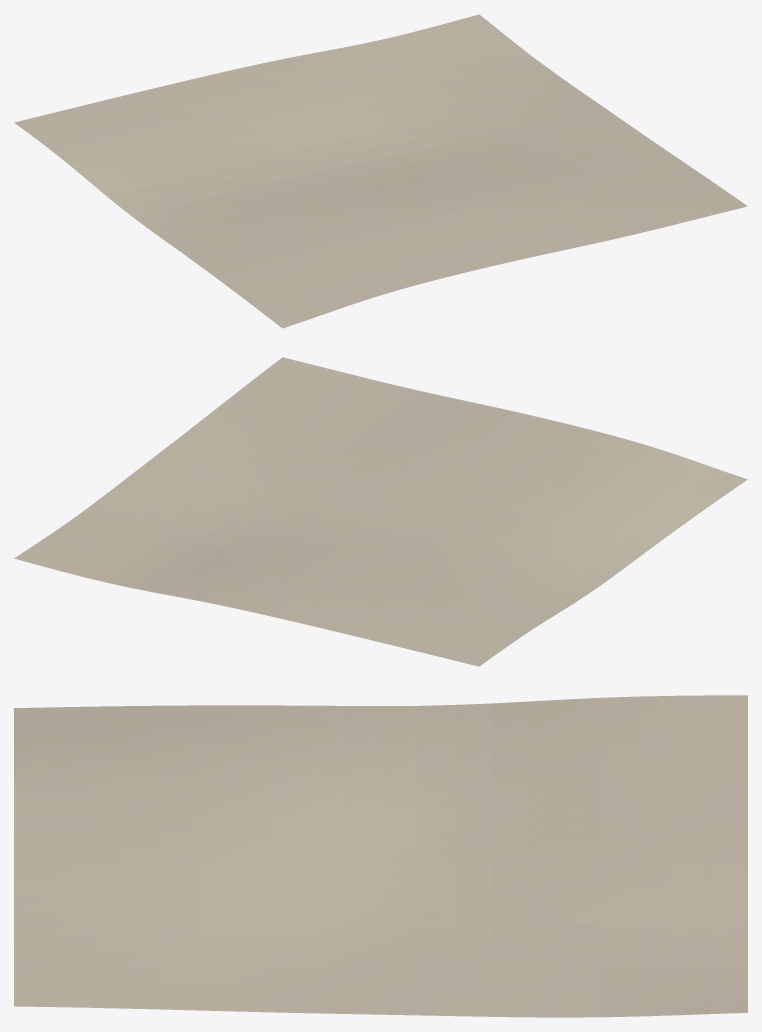
Rendered from bolak_-8_12.glb.
3 views of the same model, one above another, from view 1: azimuth 30°, elevation 25°; view 2: azimuth 150°, elevation 25°; view 3: azimuth 270°, elevation 25° (orthographic). The views are drawn at different scales.
Visible parts, largest first — view 1: Yer_Tuproq-col; view 2: Yer_Tuproq-col; view 3: Yer_Tuproq-col.
Part boxes in pixels (bbox=[...]): Yer_Tuproq-col: bbox=[14, 14, 747, 328]; Yer_Tuproq-col: bbox=[14, 357, 747, 666]; Yer_Tuproq-col: bbox=[14, 695, 747, 1017].
Size of the model in its own units: 400 by 10.3 by 400.
